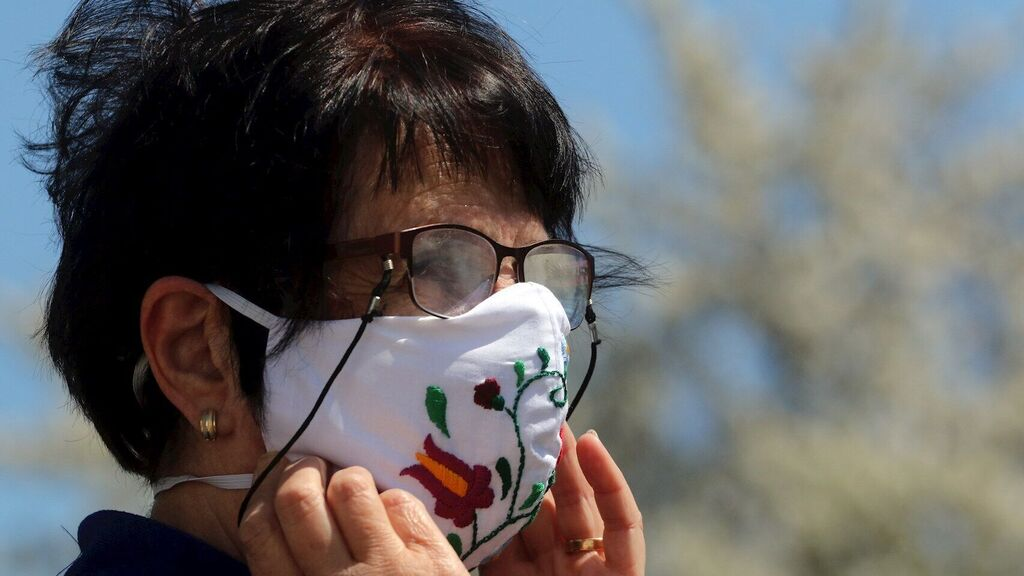with_mask: (93, 9, 651, 556)
